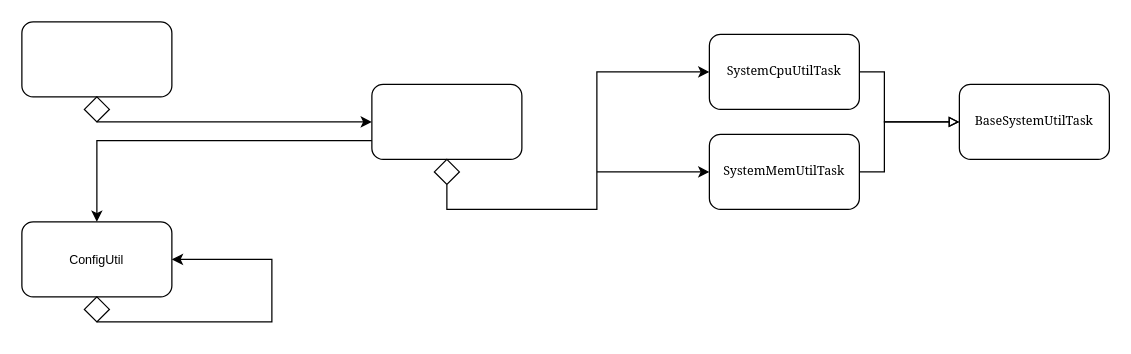
Some shapes in this 1131 by 354 pixel diagram are drawn without their labels. The shapes that lost their labels are listed below. From the top down, each one's centre as x and y in pixels, then its label:
the point at 96,59: GatewayDeviceApp
the point at 446,121: Sys PerformanceManager
